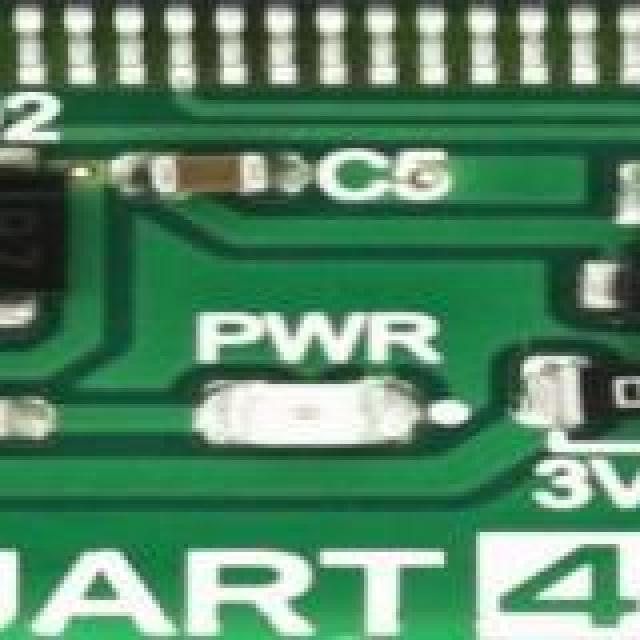IC: (0, 0, 640, 64)
LED: (224, 372, 436, 454)
capacitor: (128, 160, 292, 204), (636, 148, 640, 224)
diode: (0, 152, 72, 316), (620, 244, 640, 328)
resistor: (552, 364, 640, 440), (0, 396, 24, 440)
